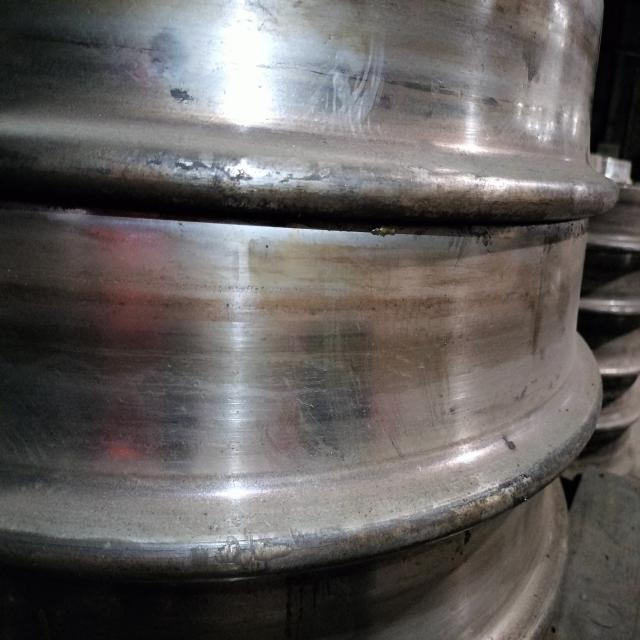Contact_Fatigue_Cracks: (146, 135, 339, 212)
Rollerpile: (191, 532, 298, 577)
